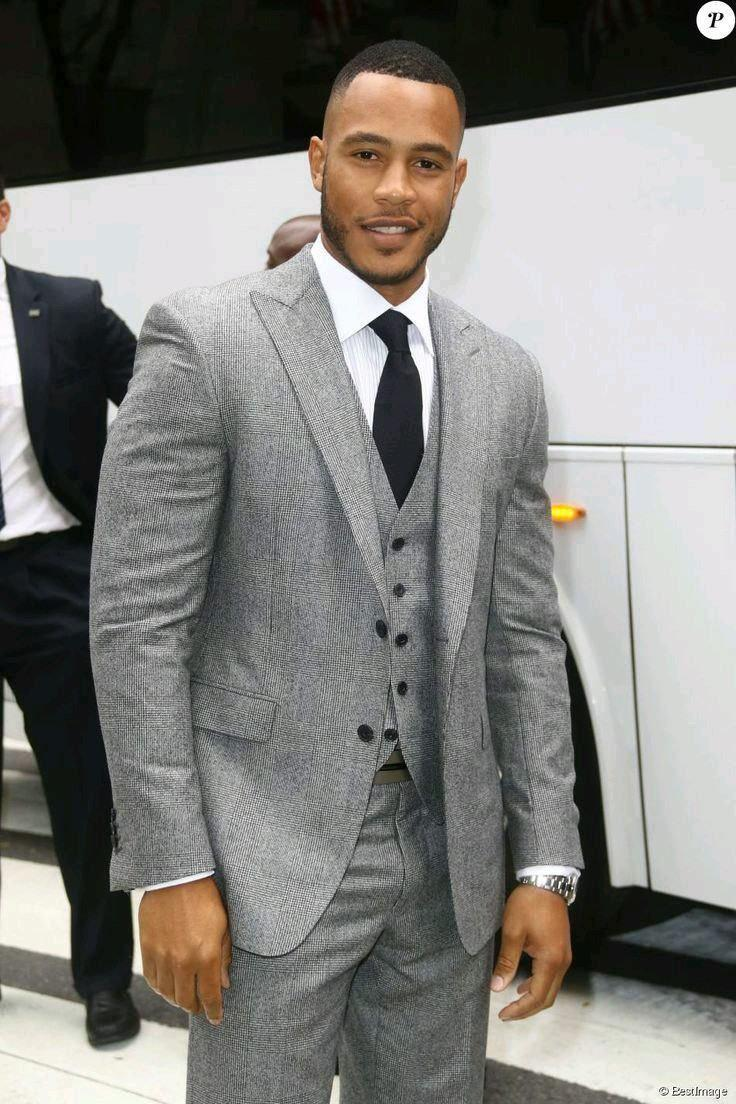Sober: (333, 76, 448, 267)
